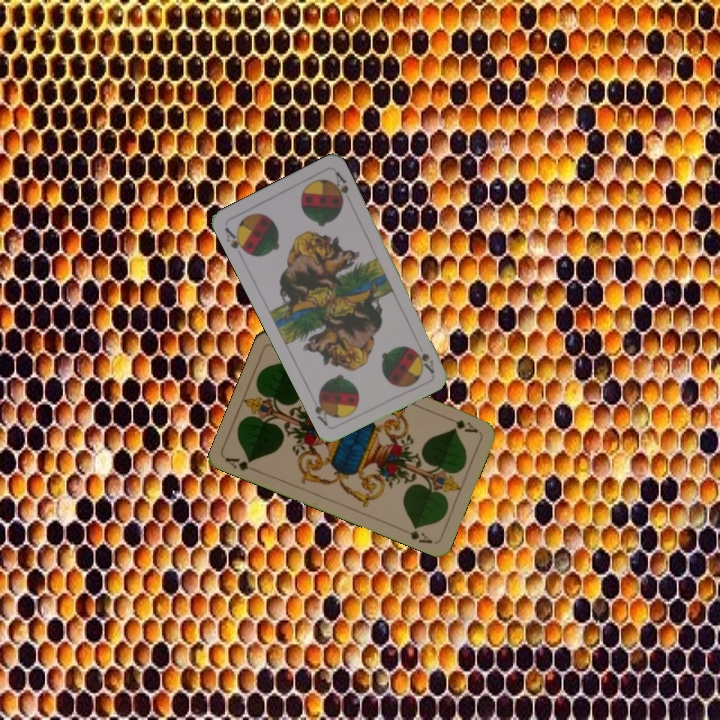GA: (222, 453, 261, 475), (451, 415, 480, 435)
SA: (220, 223, 251, 257), (417, 349, 437, 376)
